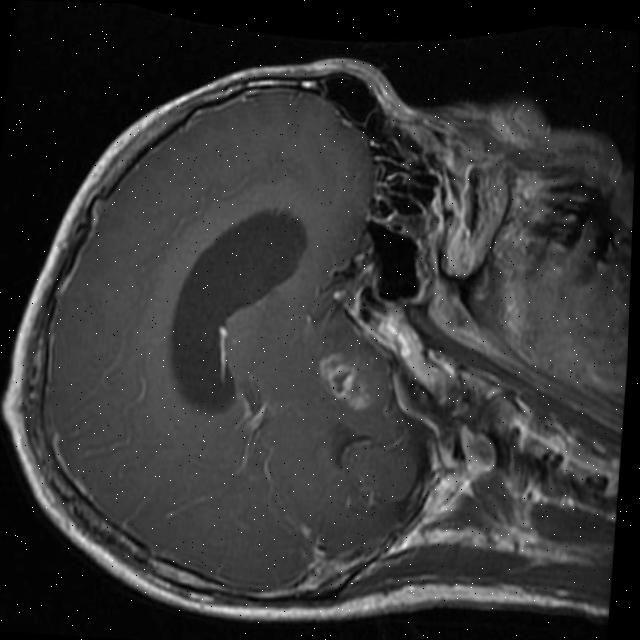Glioma: (313, 350, 377, 412)
